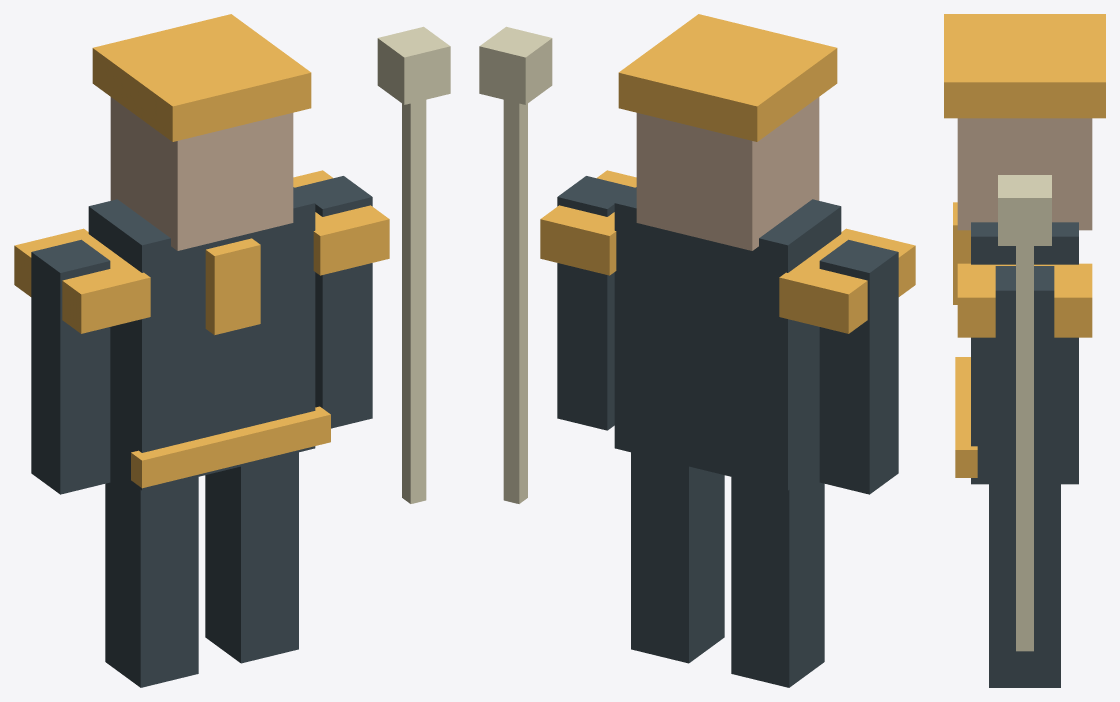
Rendered from 15_ren_skyharrow_medic_at_sedation.glb.
3 views of the same model, side by side, from view 1: azimuth 30°, elevation 25°; view 2: azimuth 150°, elevation 25°; view 3: azimuth 270°, elevation 25° (orthographic).
Visible parts, largest first — view 1: Ren Skyharrow, Medic at Sedation; view 2: Ren Skyharrow, Medic at Sedation; view 3: Ren Skyharrow, Medic at Sedation.
Part boxes in pixels (x1,y1,x2,y2): Ren Skyharrow, Medic at Sedation: (14, 14, 450, 687); Ren Skyharrow, Medic at Sedation: (479, 14, 915, 687); Ren Skyharrow, Medic at Sedation: (944, 14, 1105, 687).
Size of the model in its own units: 0.9733 by 1.42 by 0.3452.
